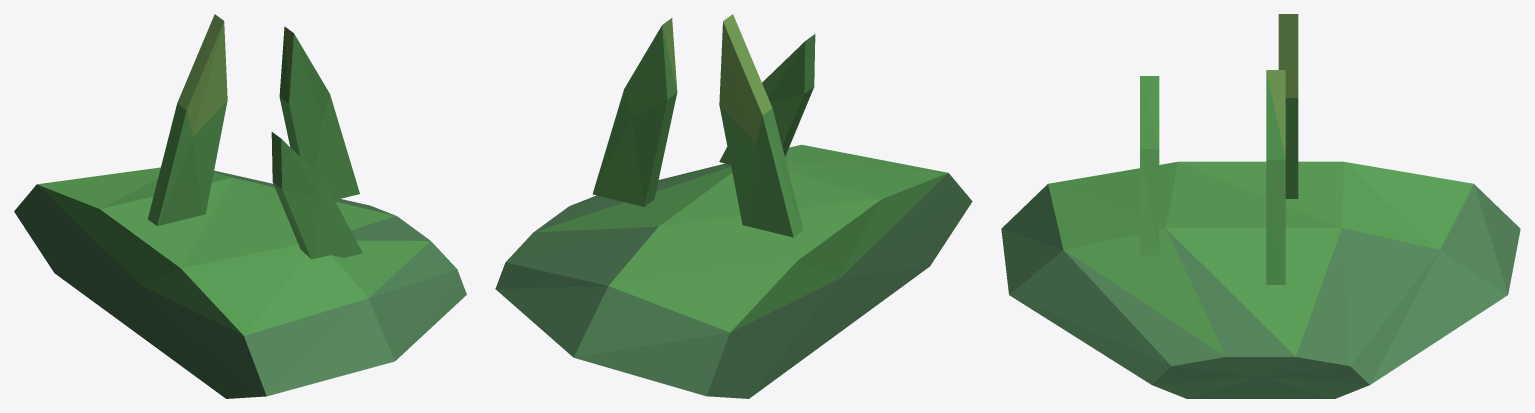
File: ledge_z1_kelp_cap_r.glb
The picture shows the model from 3 angles, left to right: view 1: azimuth 30°, elevation 25°; view 2: azimuth 150°, elevation 25°; view 3: azimuth 270°, elevation 25°; orthographic projection. The views are drawn at different scales.
Parts seen in each view (by area): view 1: ledge_z1_kelp_cap_r; view 2: ledge_z1_kelp_cap_r; view 3: ledge_z1_kelp_cap_r.
Boxes of the visible parts, x1,y1,x2,y2 form: ledge_z1_kelp_cap_r: [14, 14, 466, 398]; ledge_z1_kelp_cap_r: [495, 14, 972, 398]; ledge_z1_kelp_cap_r: [1001, 14, 1520, 398].
Bounding box in the file's own units: 1 × 1 × 1.6.
